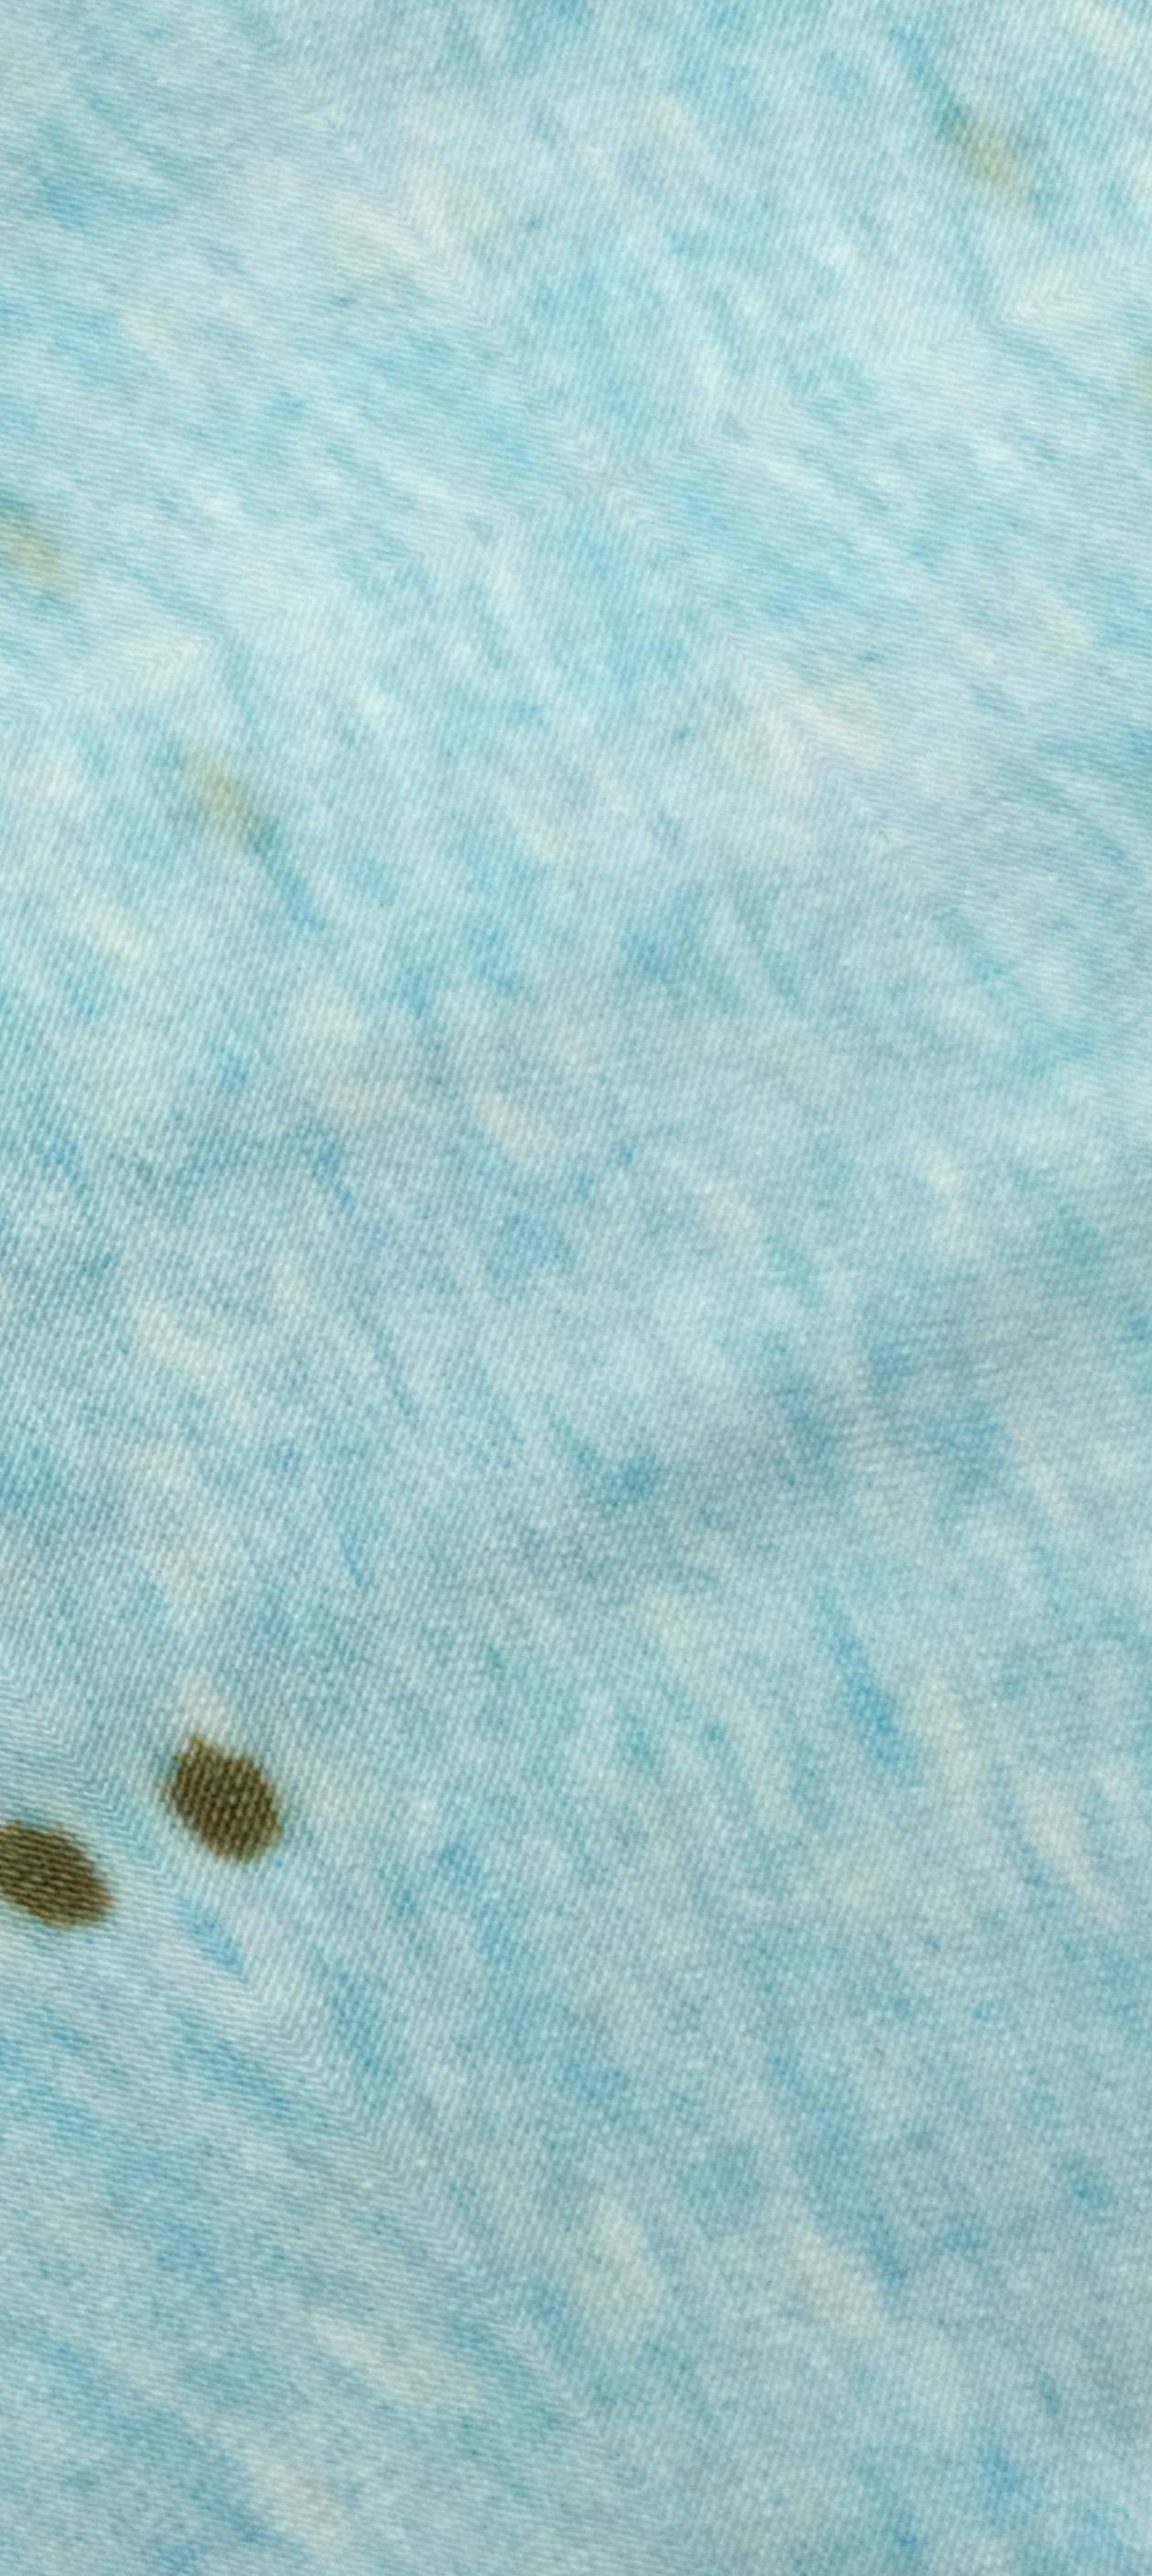stain: (141, 1700, 309, 1916), (0, 1787, 112, 1965)
